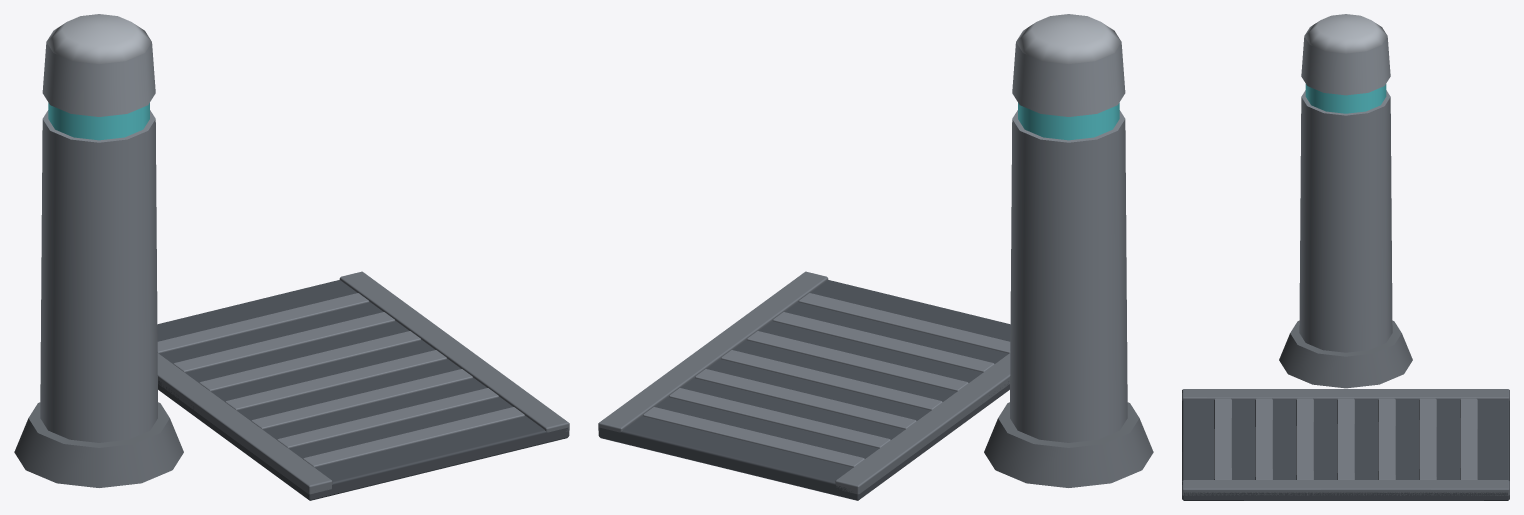
The model's file is goal_pillar.glb.
The picture shows the model from 3 angles, left to right: view 1: azimuth 30°, elevation 25°; view 2: azimuth 150°, elevation 25°; view 3: azimuth 270°, elevation 25°; orthographic projection. The views are drawn at different scales.
Visible parts, largest first — view 1: root; view 2: root; view 3: root.
Part boxes in pixels (<box>): root: <box>14,14,569,500</box>; root: <box>598,14,1153,500</box>; root: <box>1182,14,1509,500</box>.
Bounding box in the file's own units: 1.08 × 1 × 0.88.
